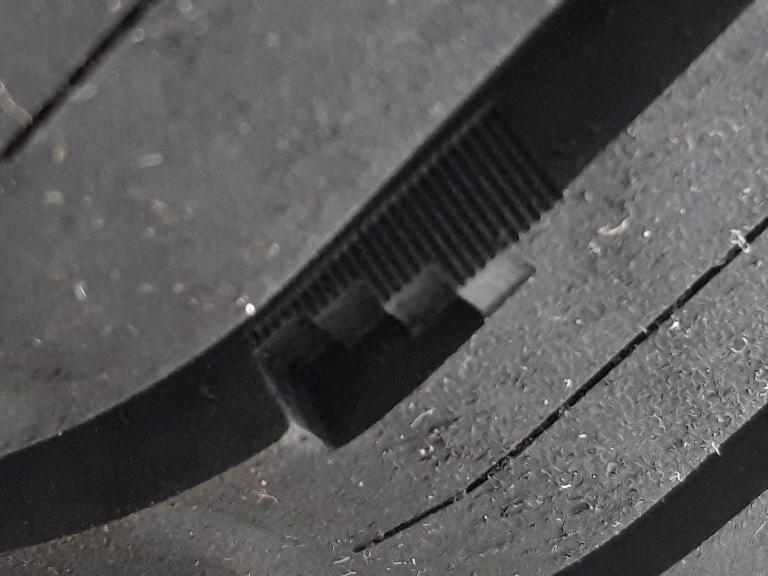temoin:75: (240, 176, 550, 466)
